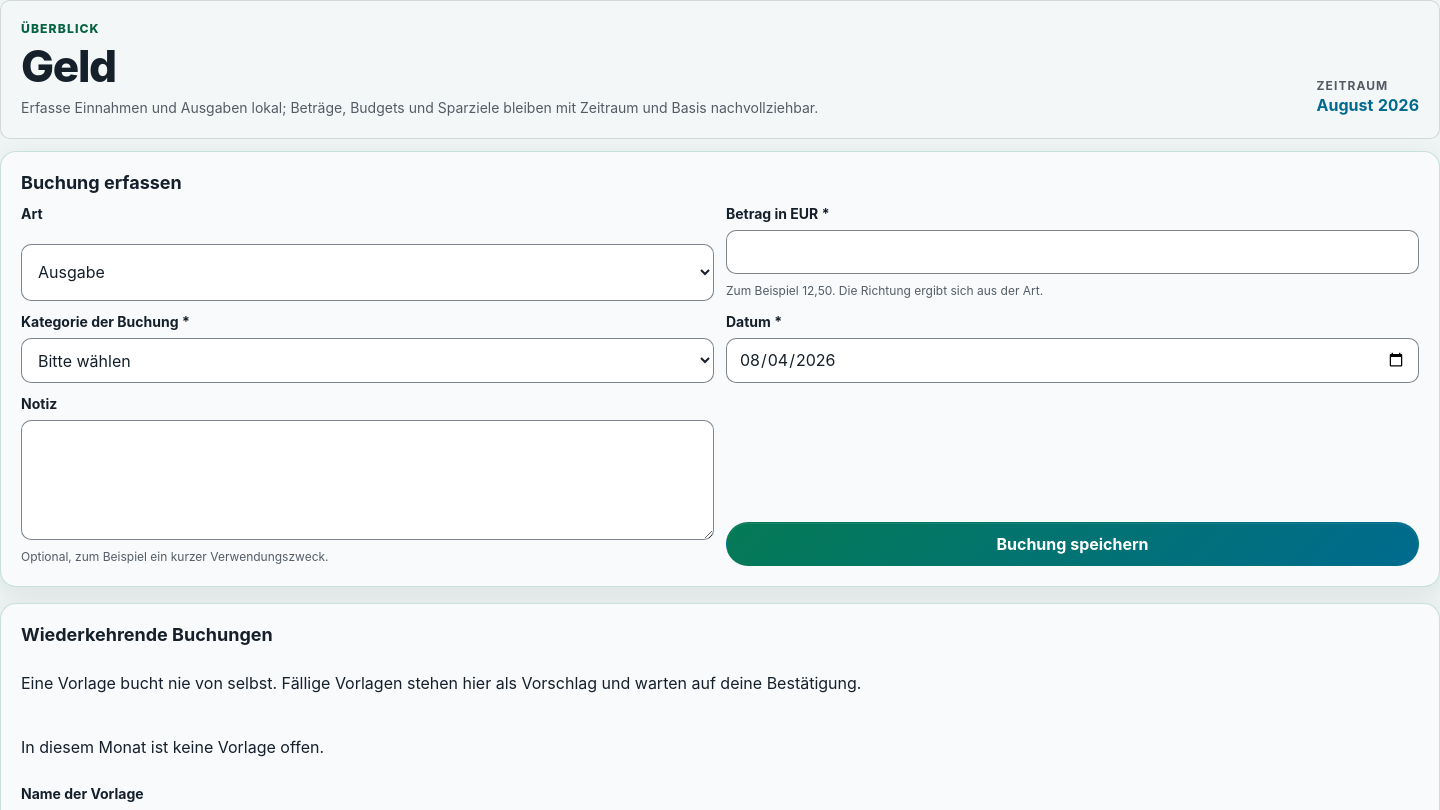
Test: FinancePage › rejects an unreadable amount with a correction hint
Expected: the heading "Buchung erfassen" is shown, top-left (21, 172), bottom-right (182, 194)
Type "-5" into the field labelled "Betrag in EUR *" at (1072,252), box top-left (726, 230), bottom-right (1419, 274)
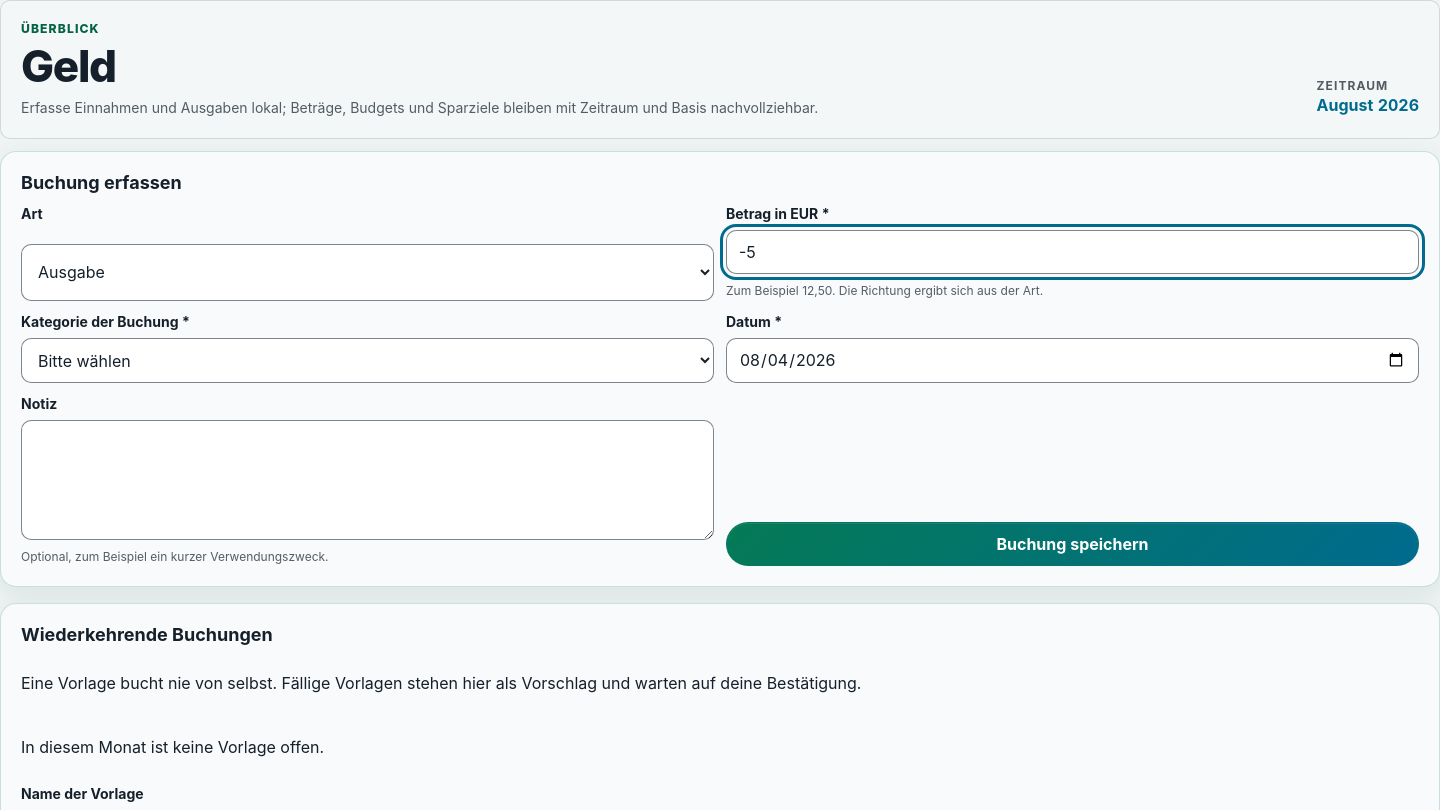
Click the button "Buchung speichern" at (1072,544), box top-left (726, 522), bottom-right (1419, 566)
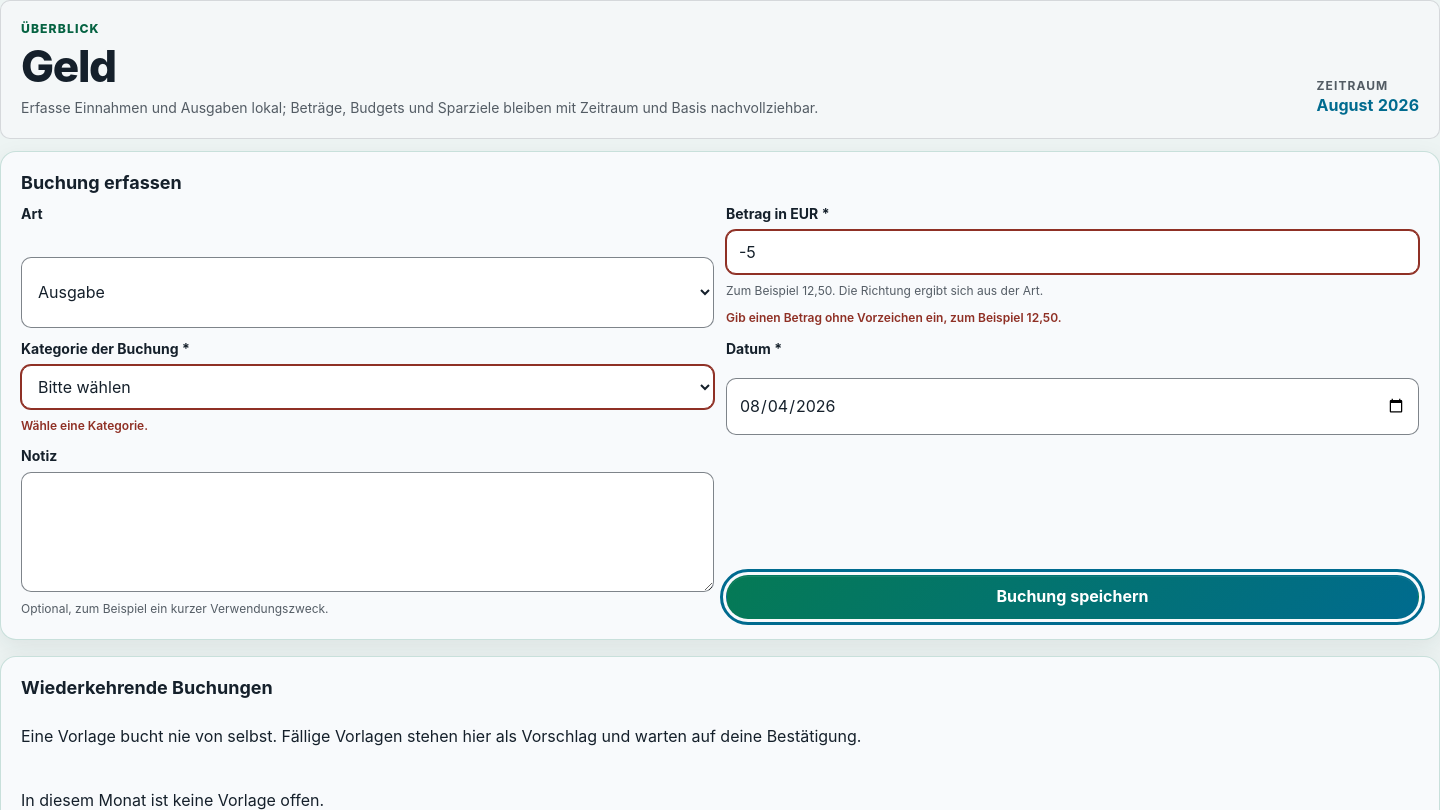
Expected: the text "Gib einen Betrag ohne Vorzeichen ein, zum Beispiel 12,50." is shown, top-left (726, 310), bottom-right (1062, 325)
Expected: the text "Wähle eine Kategorie." is shown, top-left (21, 418), bottom-right (148, 433)
